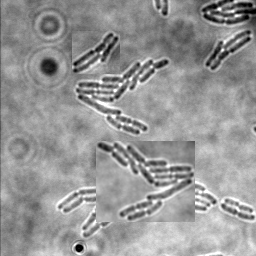Dividing: (219, 204, 255, 222), (223, 199, 253, 215)
Microcolony: (57, 167, 216, 238), (96, 141, 195, 222), (75, 59, 169, 136), (72, 31, 120, 74), (204, 30, 251, 72), (200, 1, 255, 26)
